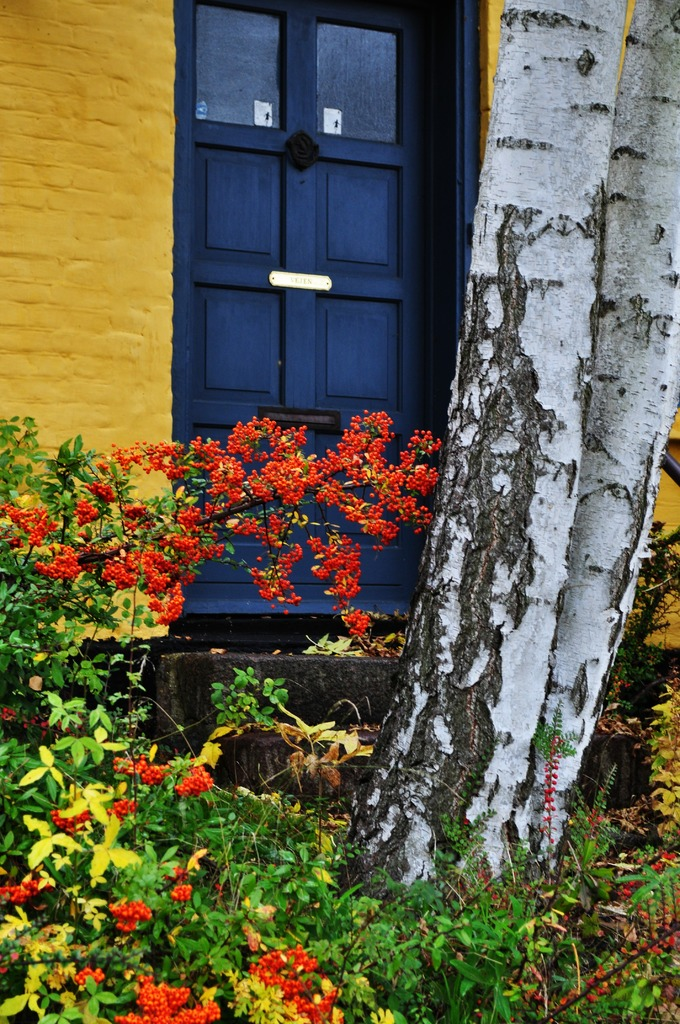door: (193, 33, 421, 599)
